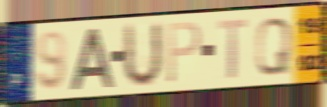9: (35, 29, 68, 93)
A: (69, 26, 116, 92)
P: (165, 19, 203, 86)
Q: (253, 15, 294, 78)
T: (217, 17, 249, 82)
U: (120, 20, 164, 90)
